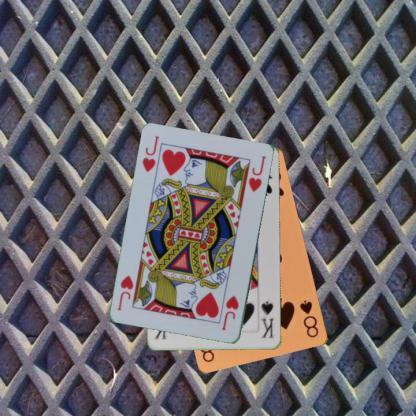8s: (297, 298, 320, 340)
Jh: (140, 134, 164, 178), (218, 294, 240, 332)
Ks: (258, 298, 277, 340)
